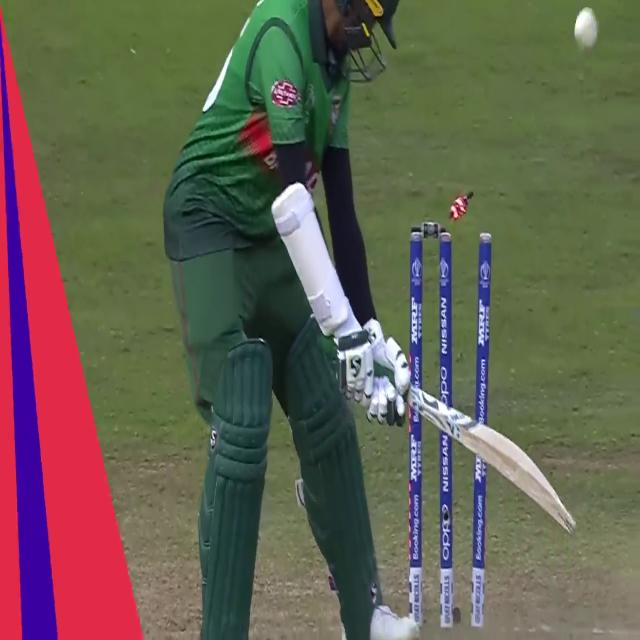ball: (572, 1, 602, 53)
